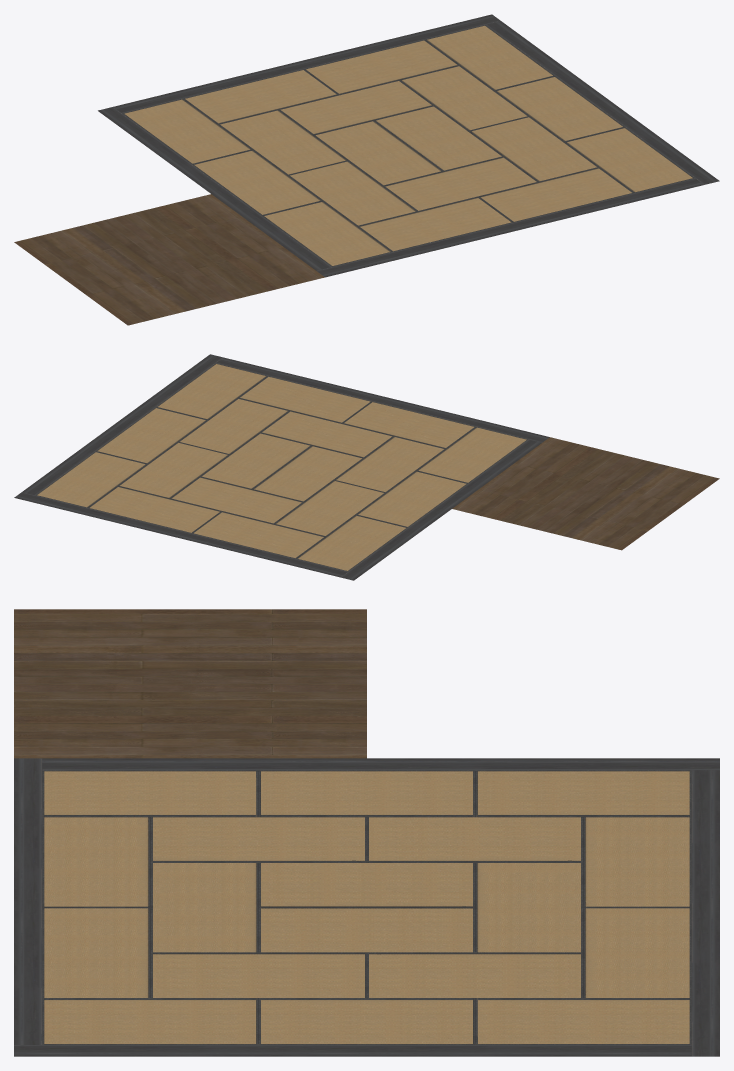
The model's file is Homeworld_Interior_Dq_Room_G_Floor_01_Vo.fbx.
3 renders of one model, top to bottom at view 1: azimuth 30°, elevation 25°; view 2: azimuth 150°, elevation 25°; view 3: azimuth 270°, elevation 25°, orthographic. The views are drawn at different scales.
Visible parts, largest first — view 1: Homeworld_Interior_Dq_Room_A_Floor_01_Vo, Homeworld_Interior_Dq_Room_G_Floor_01_Vo; view 2: Homeworld_Interior_Dq_Room_A_Floor_01_Vo, Homeworld_Interior_Dq_Room_G_Floor_01_Vo; view 3: Homeworld_Interior_Dq_Room_A_Floor_01_Vo, Homeworld_Interior_Dq_Room_G_Floor_01_Vo.
Part boxes in pixels (x1,y1,x2,y2): Homeworld_Interior_Dq_Room_A_Floor_01_Vo: (98, 14, 719, 277); Homeworld_Interior_Dq_Room_G_Floor_01_Vo: (14, 194, 324, 325); Homeworld_Interior_Dq_Room_A_Floor_01_Vo: (14, 354, 549, 580); Homeworld_Interior_Dq_Room_G_Floor_01_Vo: (452, 437, 719, 550); Homeworld_Interior_Dq_Room_A_Floor_01_Vo: (14, 758, 719, 1056); Homeworld_Interior_Dq_Room_G_Floor_01_Vo: (14, 609, 366, 758).
Size of the model in its own units: 15 by 5.46e-07 by 10.
